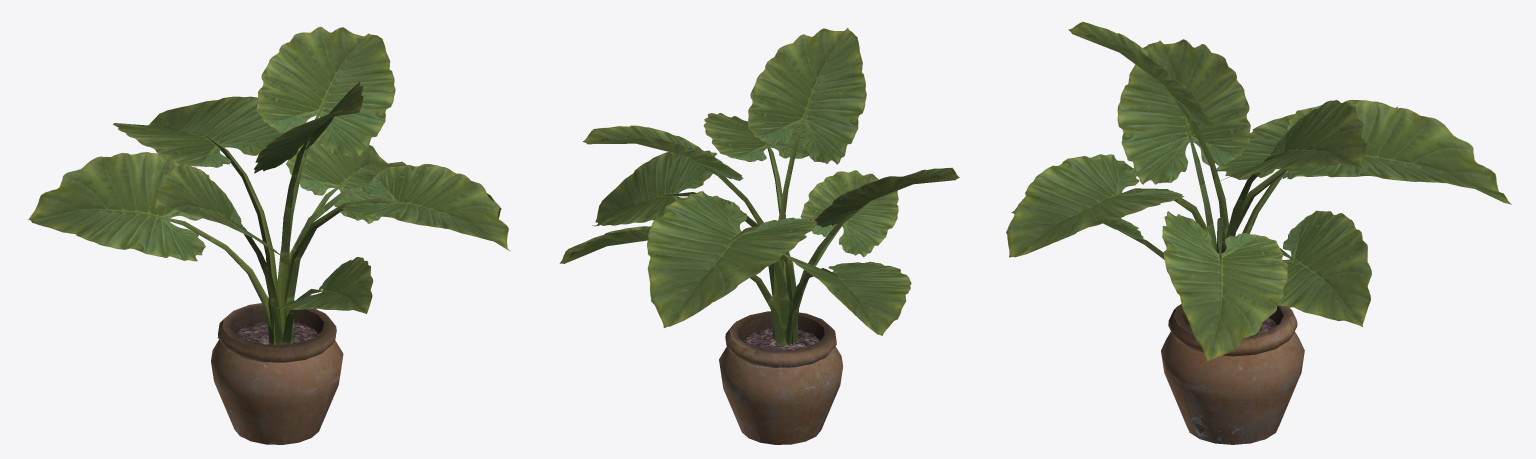
File: plant.glb
3 renders of one model, left to right at view 1: azimuth 30°, elevation 25°; view 2: azimuth 150°, elevation 25°; view 3: azimuth 270°, elevation 25°, orthographic. The views are drawn at different scales.
Visible parts, largest first — view 1: leaves, pot; view 2: leaves, pot; view 3: leaves, pot.
Boxes of the visible parts, <box> form: leaves: <box>28,27,510,344</box>; pot: <box>211,303,343,444</box>; leaves: <box>559,28,959,345</box>; pot: <box>719,311,843,444</box>; leaves: <box>1006,22,1511,362</box>; pot: <box>1161,304,1304,444</box>.
Size of the model in its own units: 72.17 by 63.86 by 73.94.
2 materials, 2 textured.
